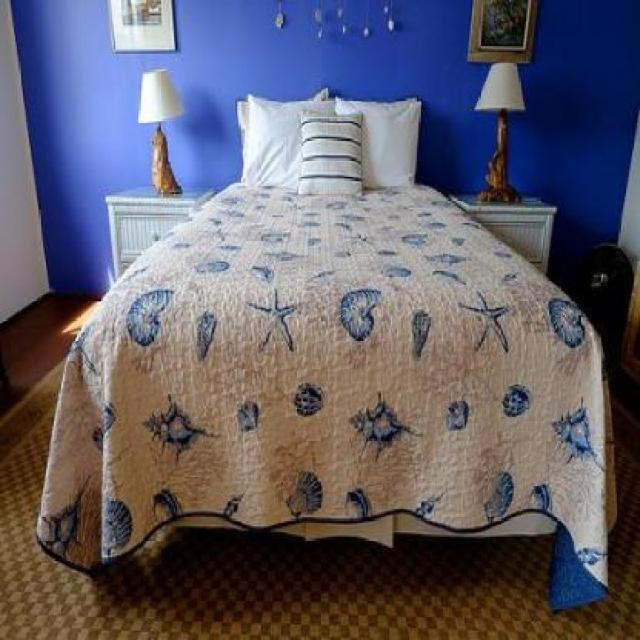Bed: (26, 75, 622, 640)
